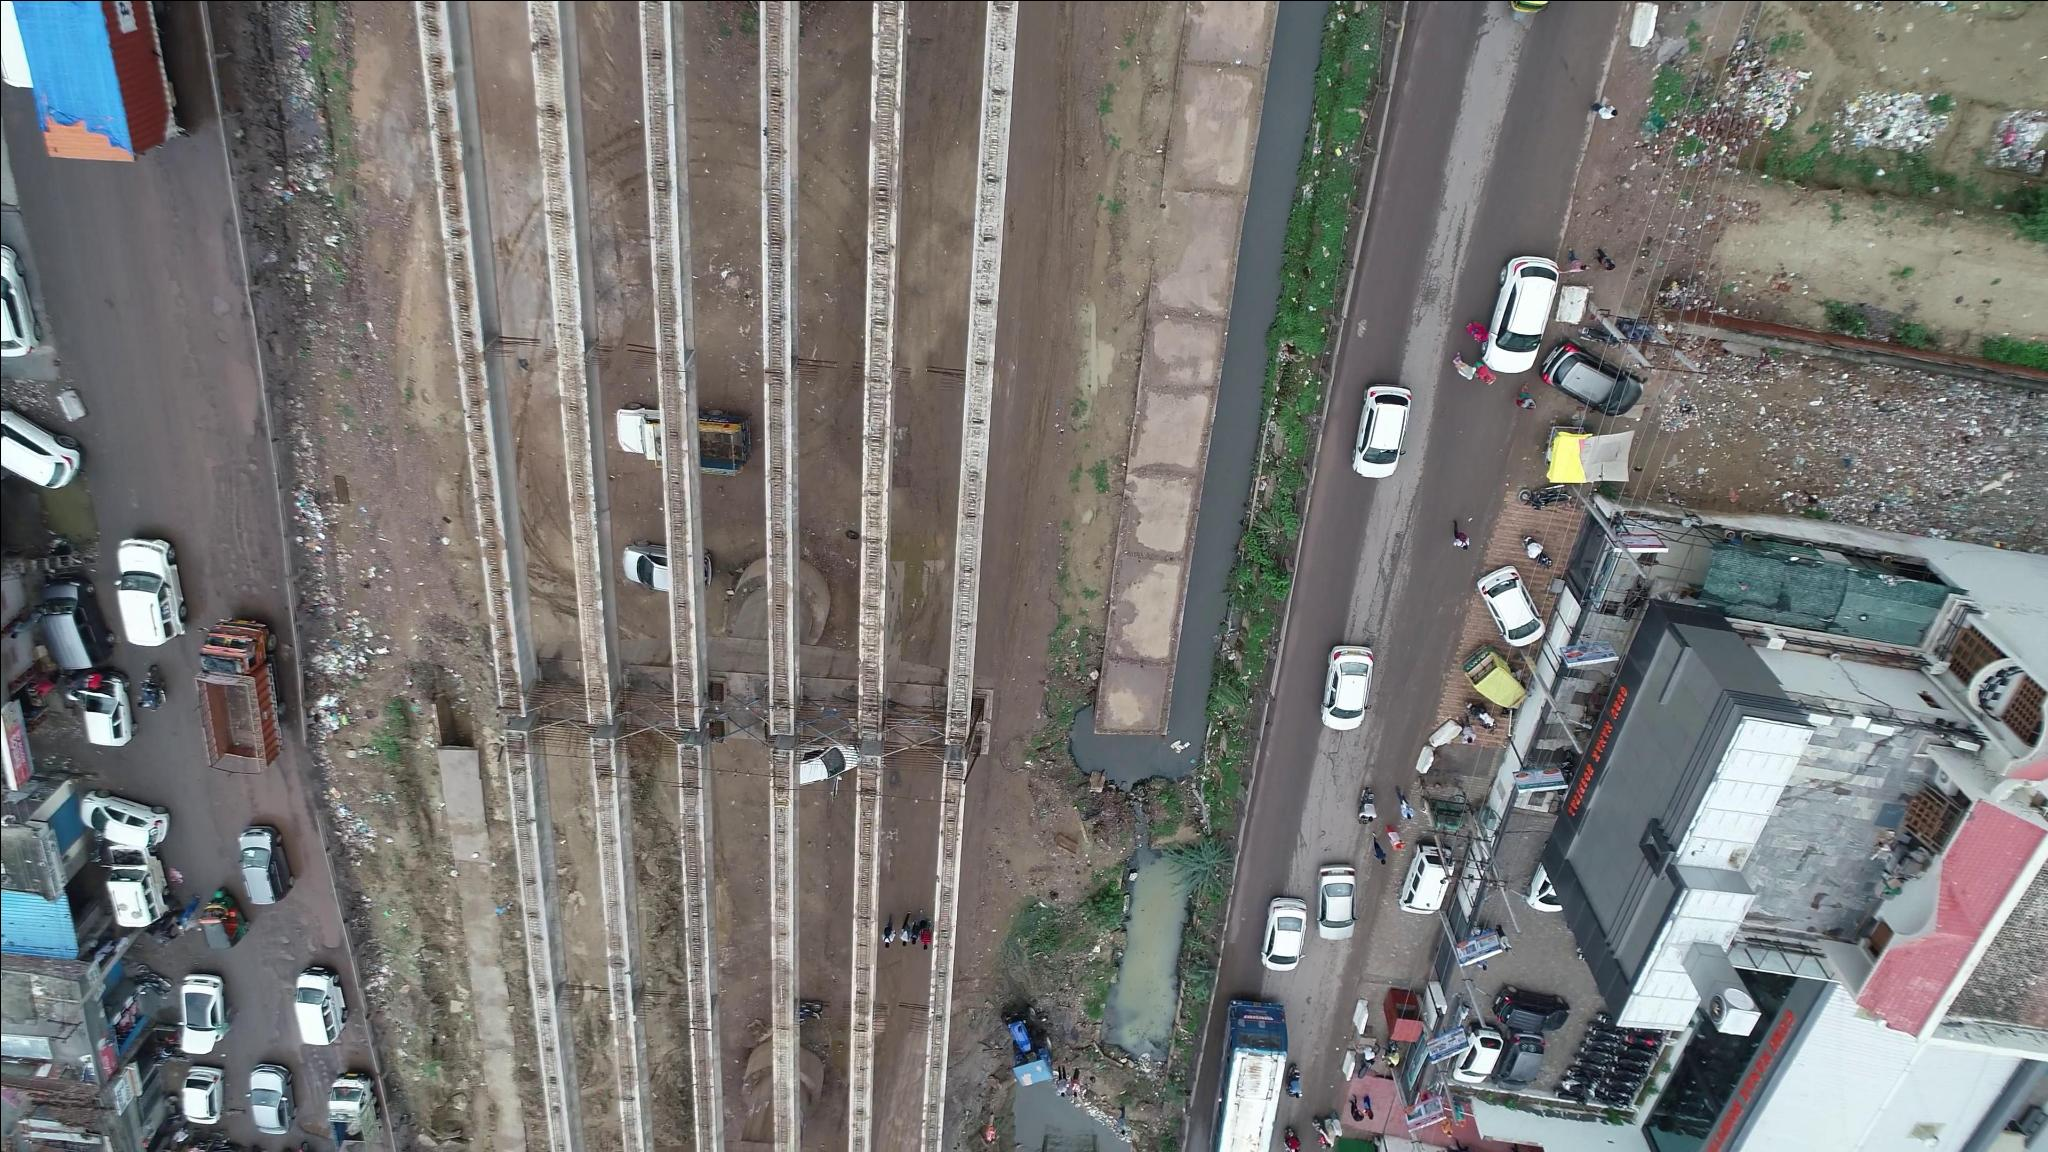Potholes: (169, 274, 255, 371), (267, 921, 325, 956), (301, 1042, 331, 1089)
